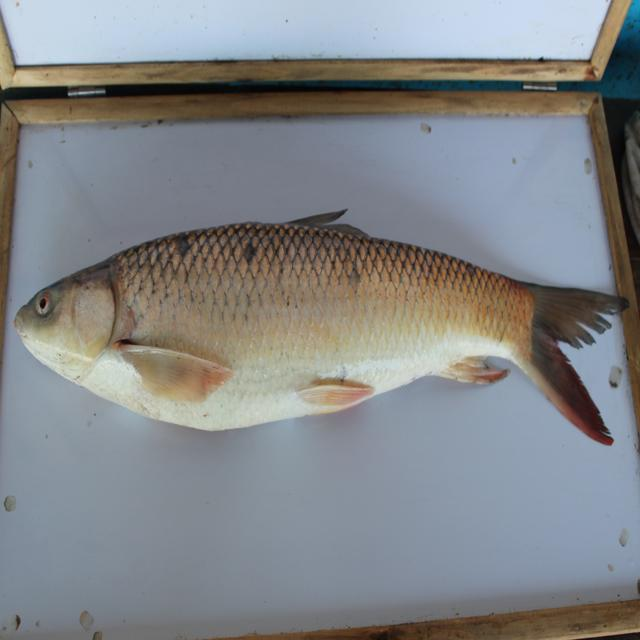Grass Carp: (14, 203, 622, 448)
